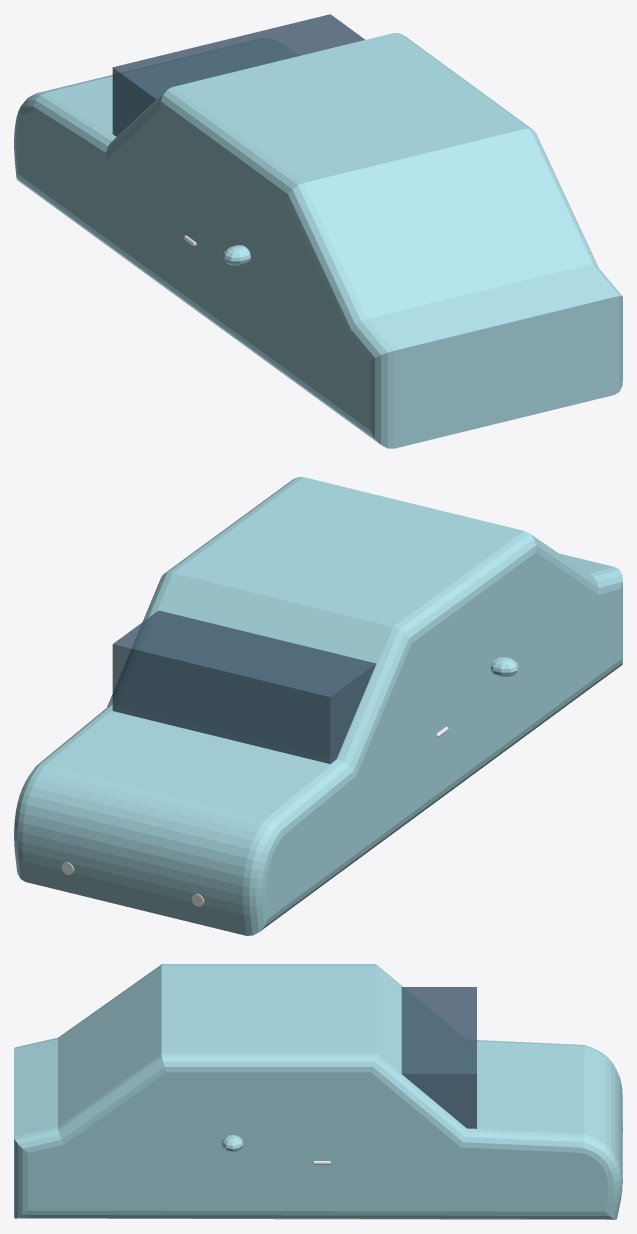
File: veh_saudade.glb
3 renders of one model, top to bottom at view 1: azimuth 30°, elevation 25°; view 2: azimuth 150°, elevation 25°; view 3: azimuth 270°, elevation 25°, orthographic. The views are drawn at different scales.
Parts seen in each view (by area): view 1: veh_saudade; view 2: veh_saudade; view 3: veh_saudade.
Part boxes in pixels (box(x1,y1,x2,y2)): veh_saudade: box(14, 14, 622, 448); veh_saudade: box(14, 477, 622, 935); veh_saudade: box(14, 964, 622, 1219).
Bounding box in the file's own units: 2.17 × 1.42 × 4.76.
